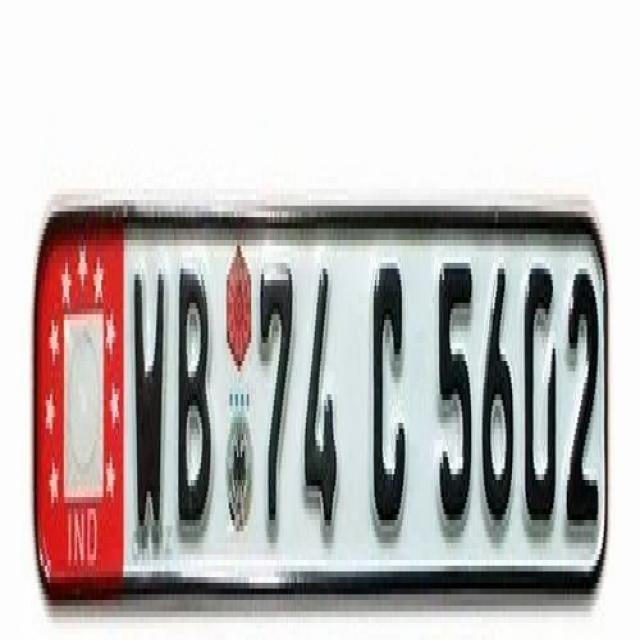0: (518, 214, 562, 552)
4: (298, 240, 342, 556)
5: (436, 218, 476, 560)
6: (478, 246, 518, 554)
7: (252, 223, 294, 558)
B: (176, 235, 216, 556)
C: (364, 238, 416, 562)
W: (130, 255, 168, 565)
